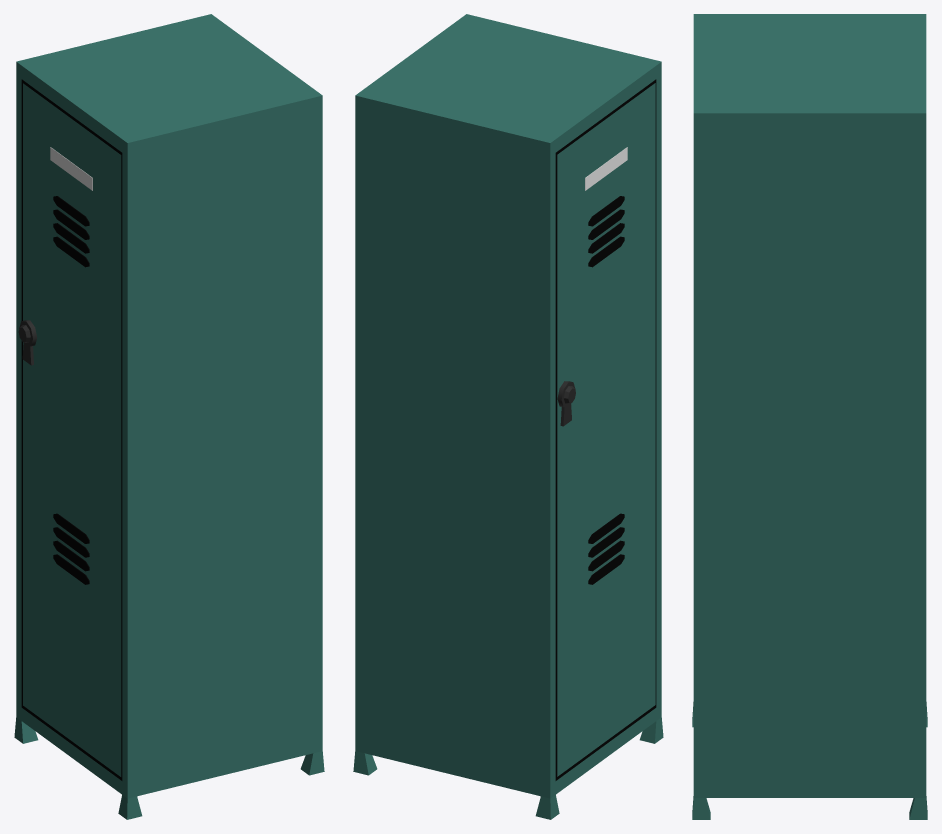
File: locker.FBX
3 views of the same model, side by side, from view 1: azimuth 30°, elevation 25°; view 2: azimuth 150°, elevation 25°; view 3: azimuth 270°, elevation 25° (orthographic). The views are drawn at different scales.
Parts seen in each view (by area): view 1: Box010; view 2: Box010; view 3: Box010.
Boxes of the visible parts, bbox=[...] form: Box010: bbox=[14, 14, 324, 819]; Box010: bbox=[353, 14, 663, 819]; Box010: bbox=[692, 14, 927, 819].
Size of the model in its own units: 24.07 by 76.23 by 23.03.
